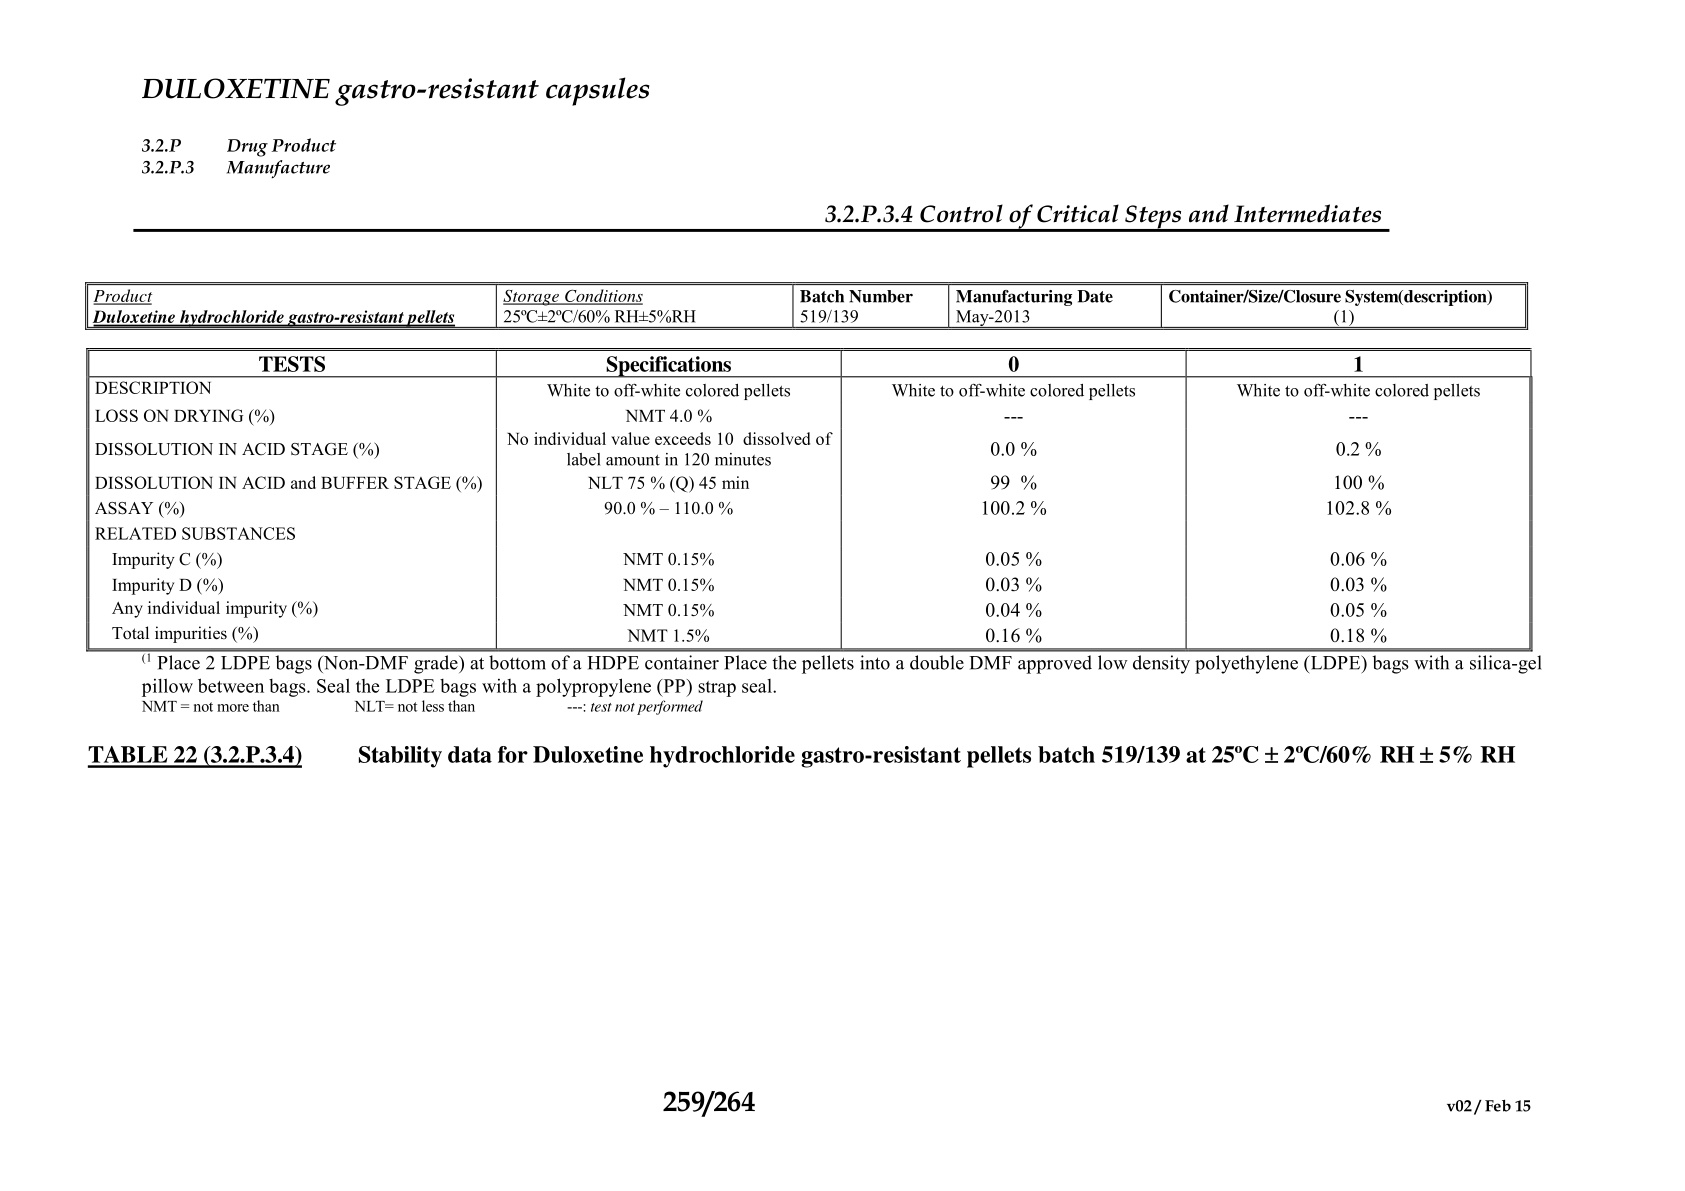full_lined: (86, 347, 1533, 652)
partial_lined: (84, 281, 1529, 331)
